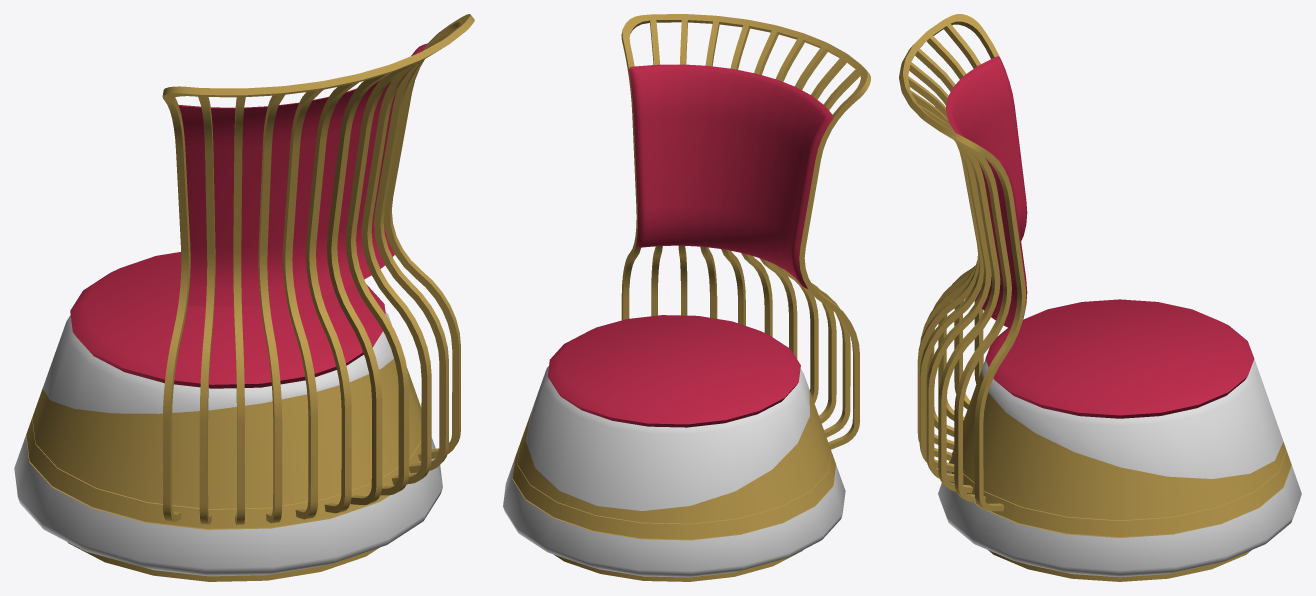
Rendered from Chair_B_01.fbx.
3 renders of one model, left to right at view 1: azimuth 30°, elevation 25°; view 2: azimuth 150°, elevation 25°; view 3: azimuth 270°, elevation 25°, orthographic. The views are drawn at different scales.
Visible parts, largest first — view 1: Chair_B_01; view 2: Chair_B_01; view 3: Chair_B_01.
Boxes of the visible parts, x1=… form: Chair_B_01: x1=14, y1=14, x2=474, y2=581; Chair_B_01: x1=503, y1=14, x2=870, y2=581; Chair_B_01: x1=899, y1=14, x2=1301, y2=581.
Bounding box in the file's own units: 114 × 153 × 126.
